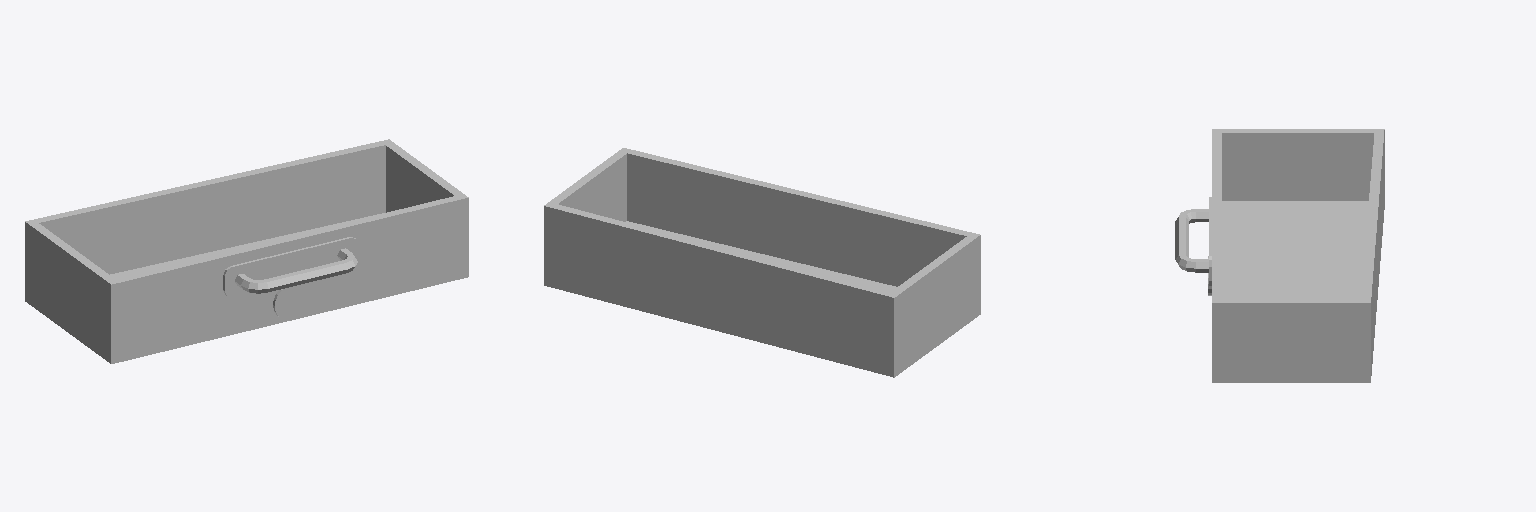
Rendered from Gimmick_Drawer01_Chain.obj.
The picture shows the model from 3 angles: view 1: azimuth 30°, elevation 25°; view 2: azimuth 150°, elevation 25°; view 3: azimuth 270°, elevation 25°; orthographic projection.
Parts seen in each view (by area): view 1: Gimmick_Drawer01_Chain Gimmick; view 2: Gimmick_Drawer01_Chain Gimmick; view 3: Gimmick_Drawer01_Chain Gimmick.
Part boxes in pixels (x1,y1,x2,y2): Gimmick_Drawer01_Chain Gimmick: (25,139,468,363); Gimmick_Drawer01_Chain Gimmick: (544,148,980,377); Gimmick_Drawer01_Chain Gimmick: (1175,129,1384,382).
Bounding box in the file's own units: 61 × 13 × 30.91.